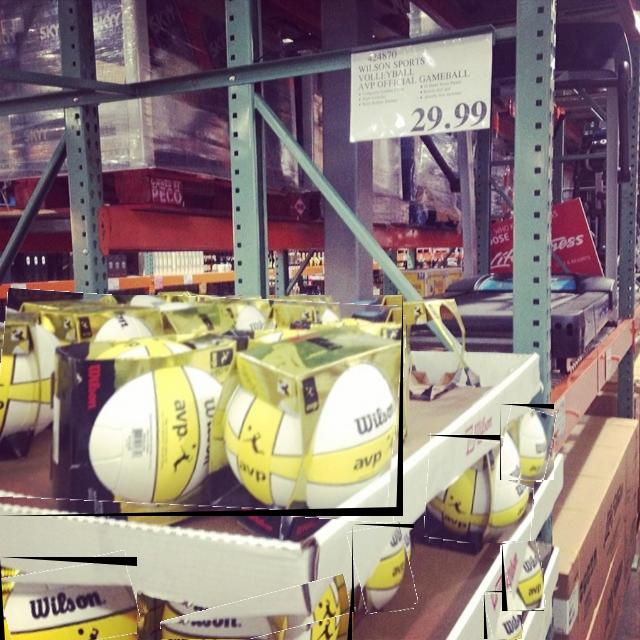Football: (0, 295, 403, 516), (426, 435, 534, 543), (0, 557, 137, 640), (161, 586, 352, 640), (352, 524, 414, 612), (500, 404, 554, 480), (502, 541, 544, 611), (484, 591, 522, 639)
